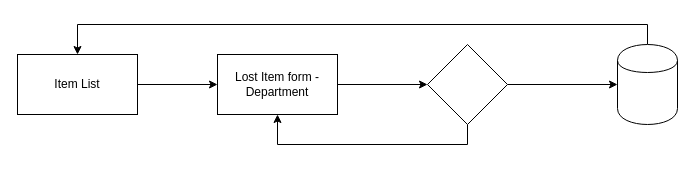
Some shapes in this 695 by 170 pixel diagram are drawn without their labels. The shapes that lost their labels are listed below. From the top down, each one's centre as x and y in pixels, then its label:
the point at 467,84: Validation
the point at 647,84: Database
